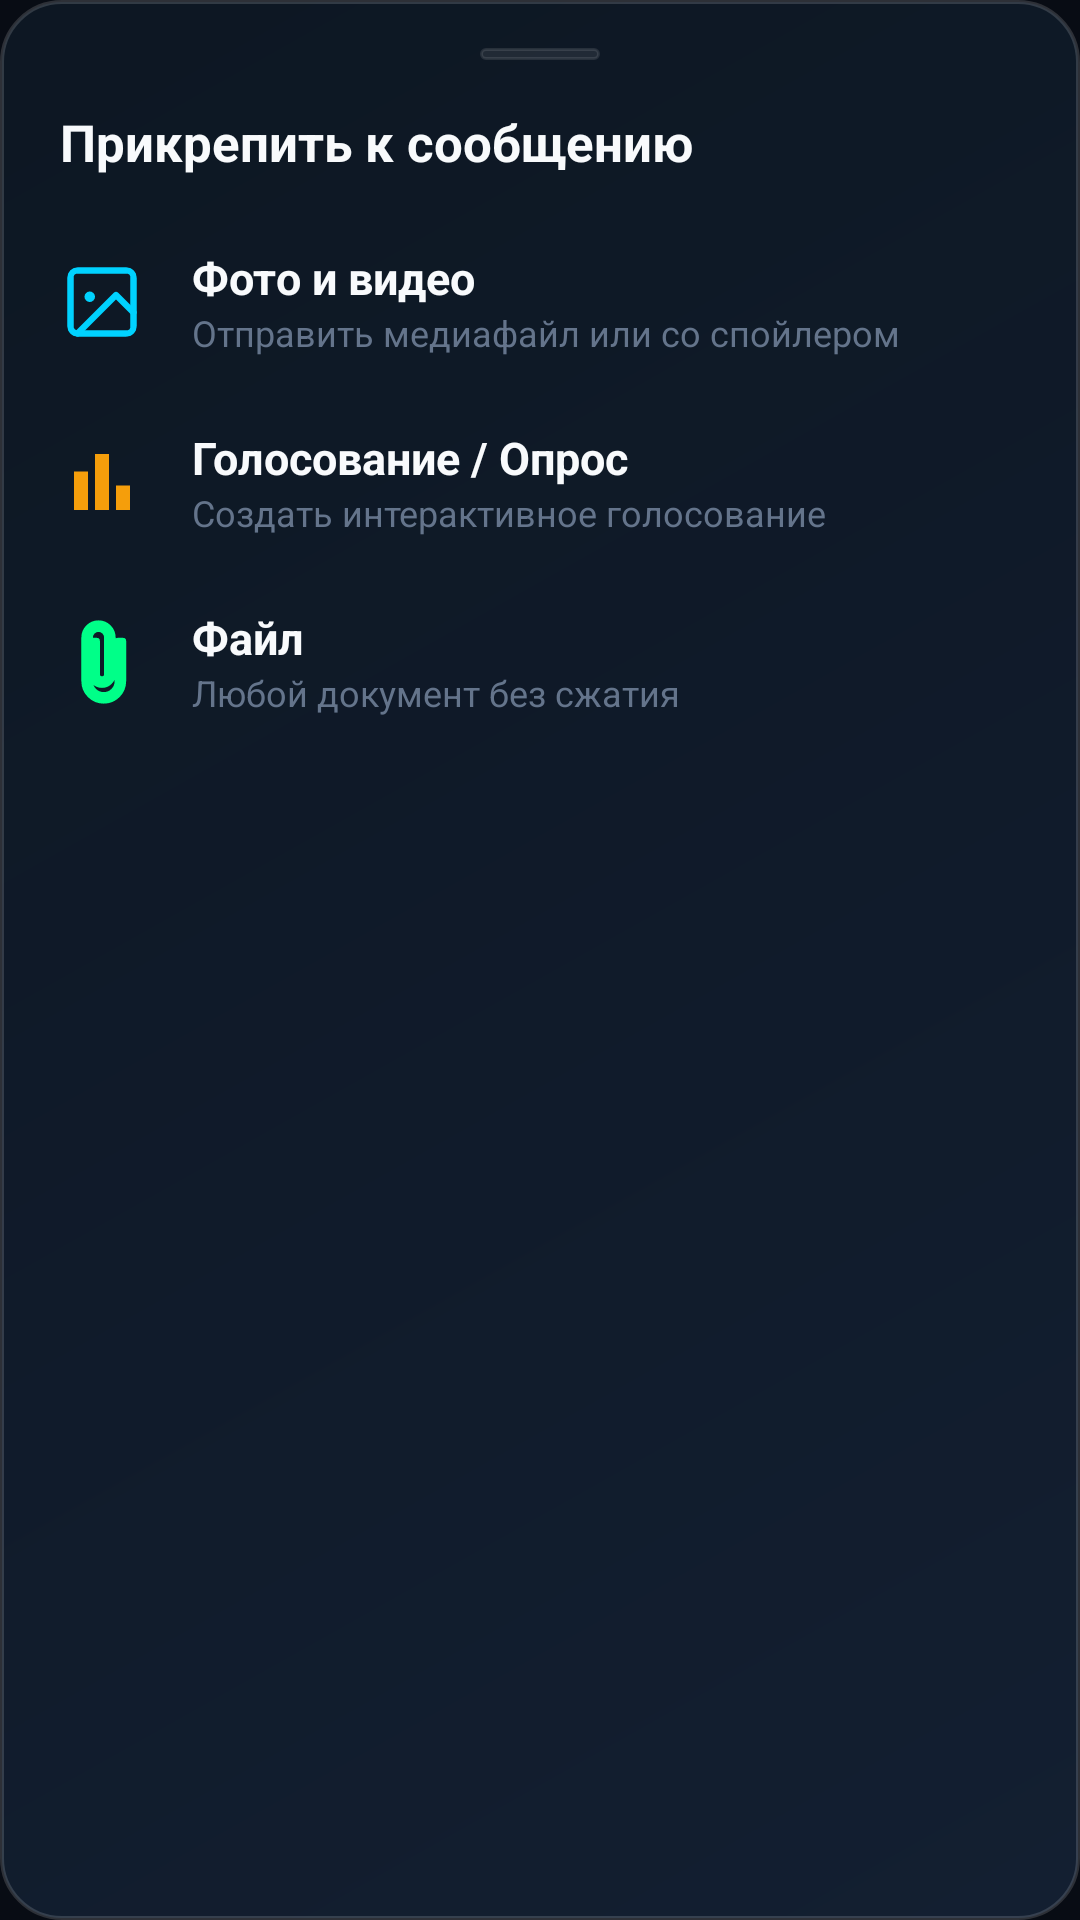

Icon bounding boxes for this 1080 x 1920 phone screenshot, format rect(x1, y1, x2, y2):
attach file: rect(81, 620, 127, 704)
attach photo: rect(67, 267, 137, 337)
attach poll: rect(74, 454, 130, 510)
